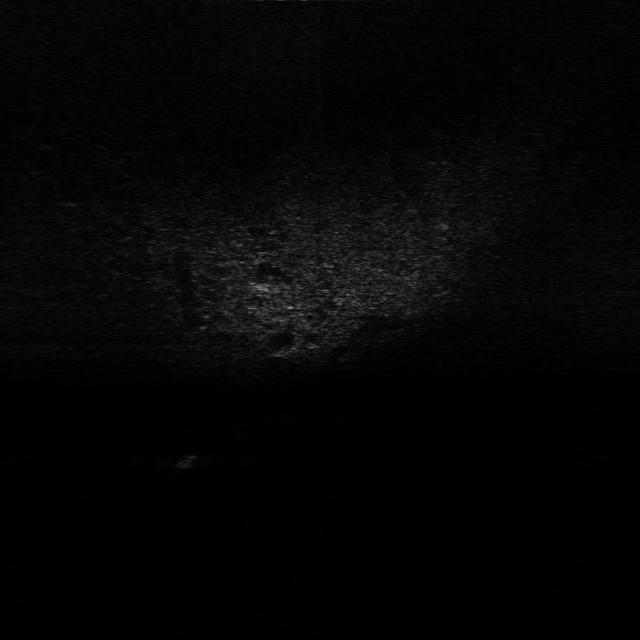cylinder: (170, 449, 200, 473)
